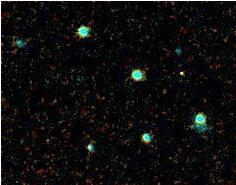star: (167, 56, 197, 86)
